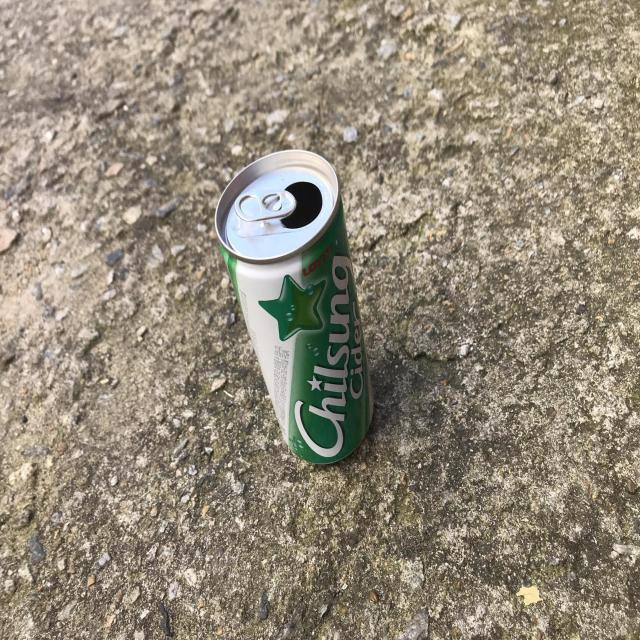can: (215, 149, 373, 464)
